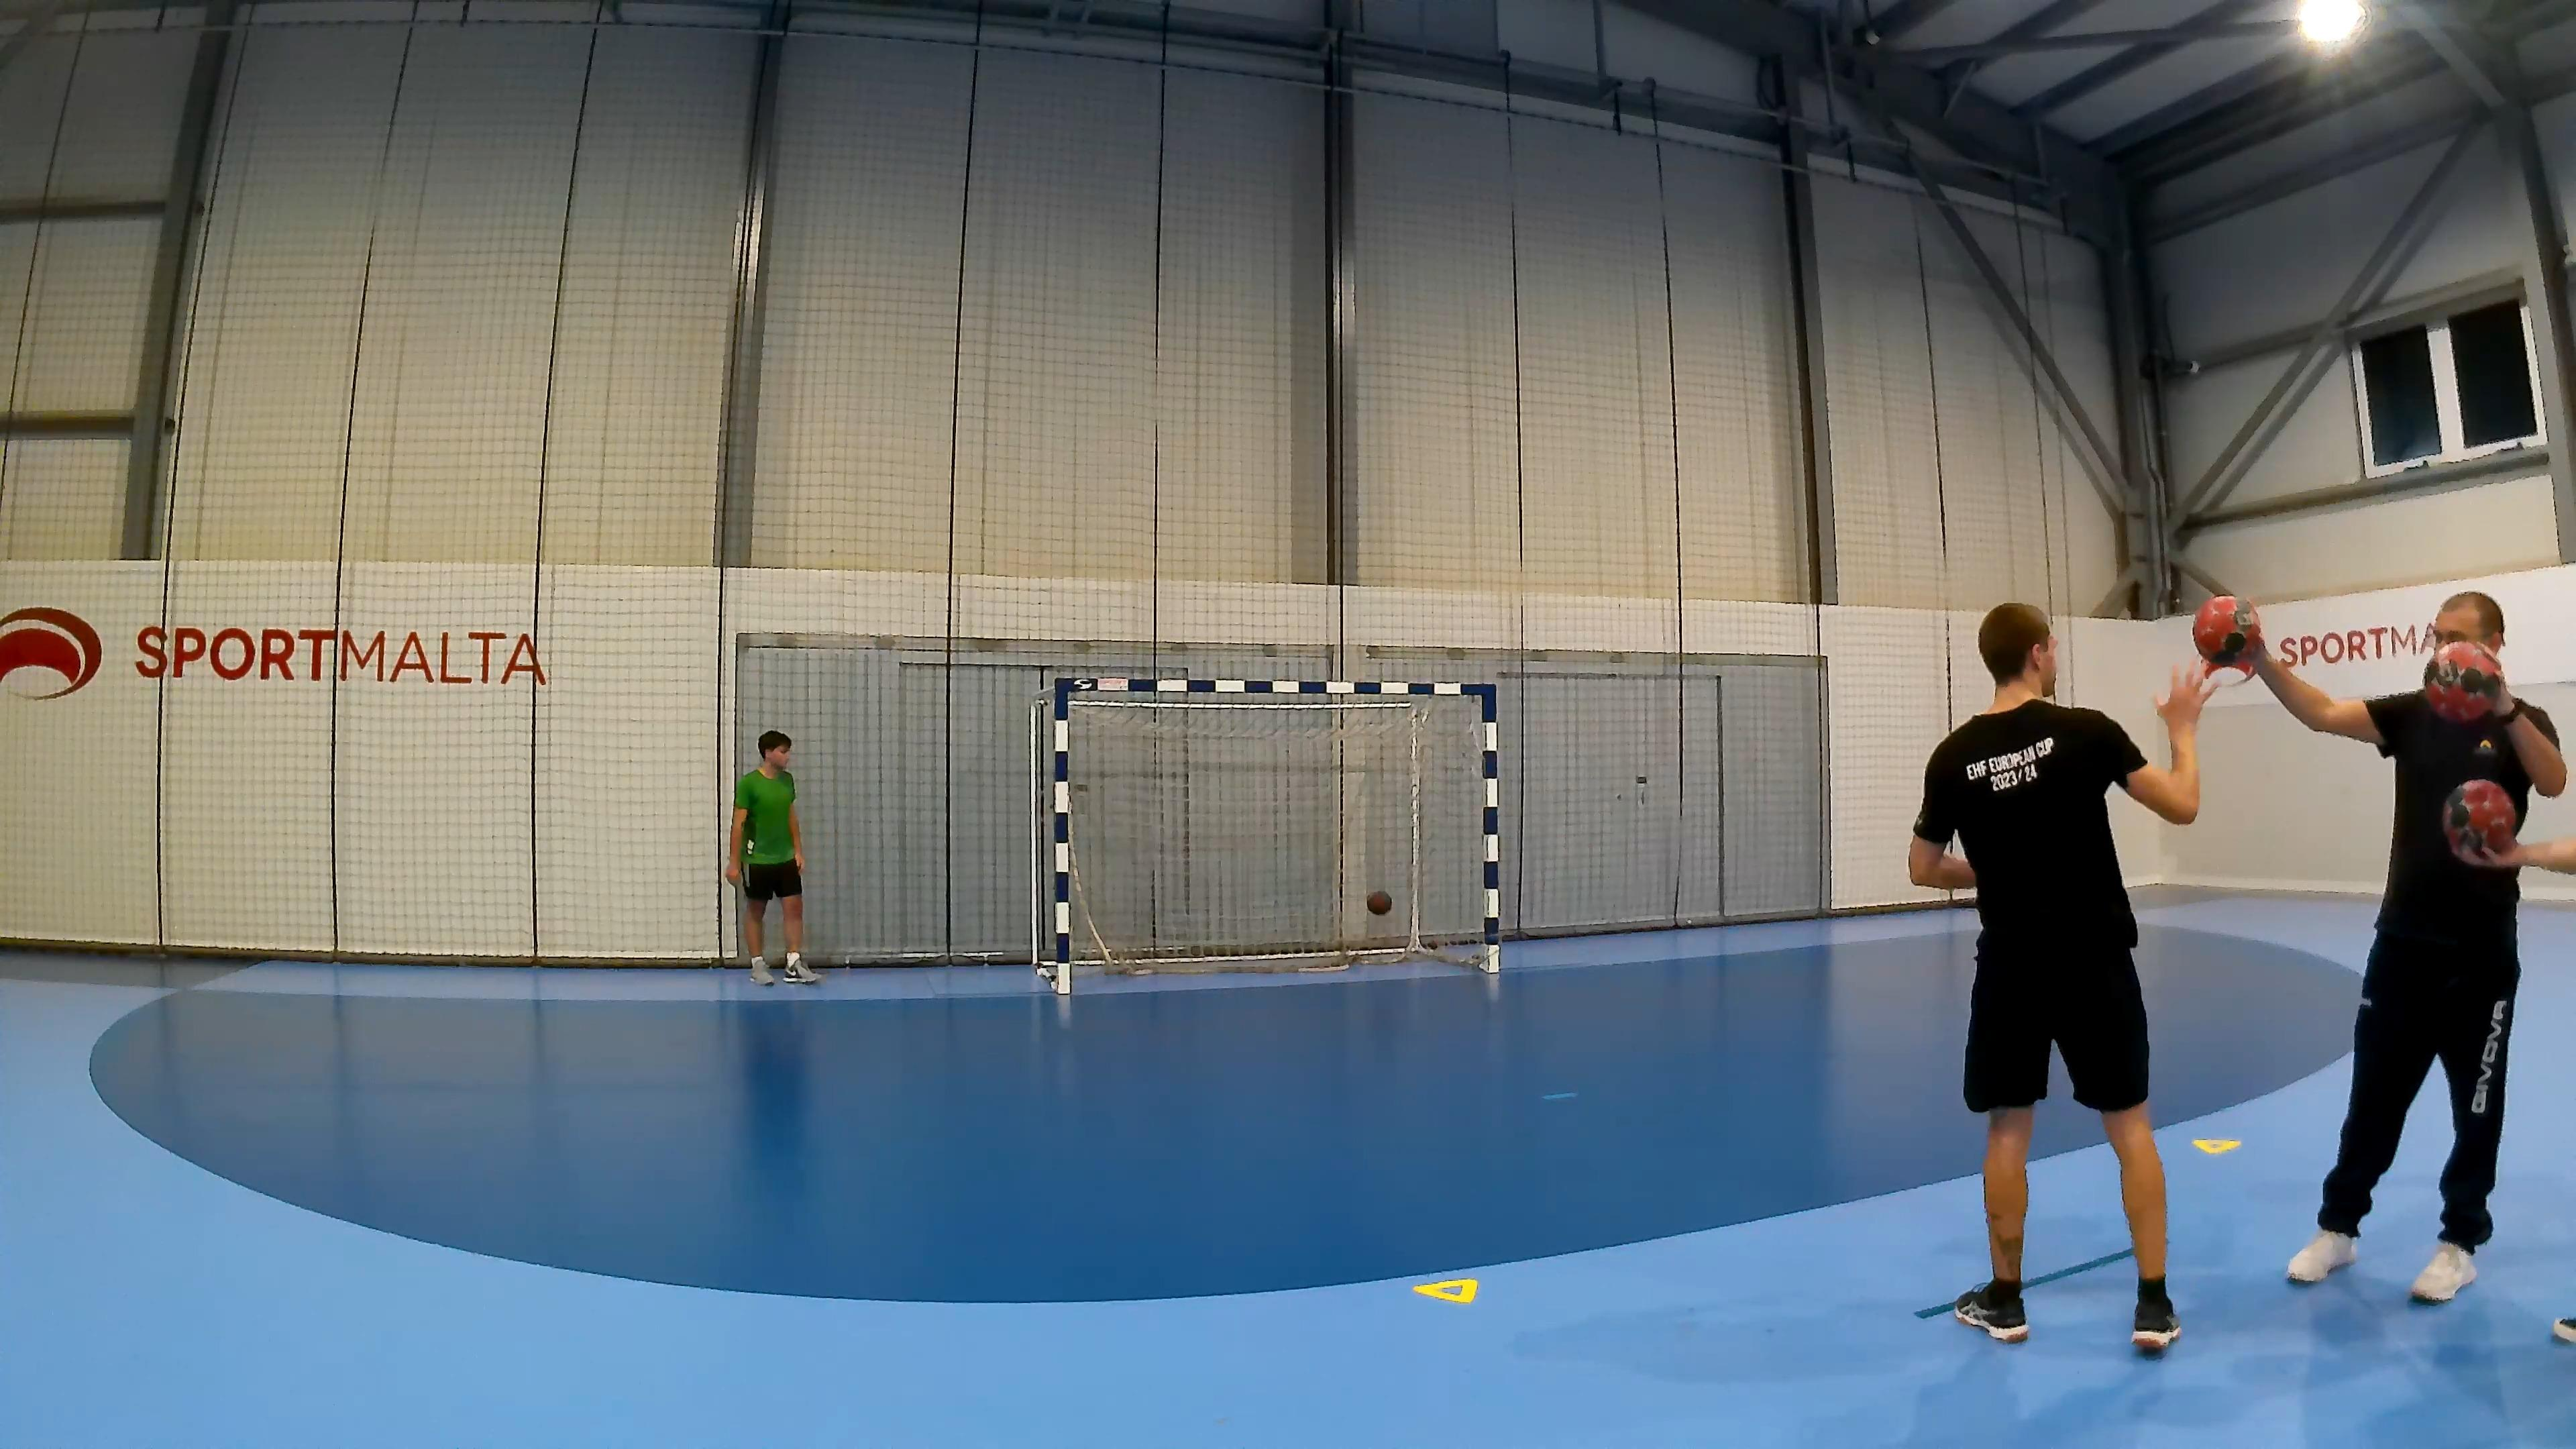handball: (2422, 639, 2503, 722), (2442, 777, 2516, 860), (2190, 593, 2252, 662), (1364, 888, 1396, 916)
